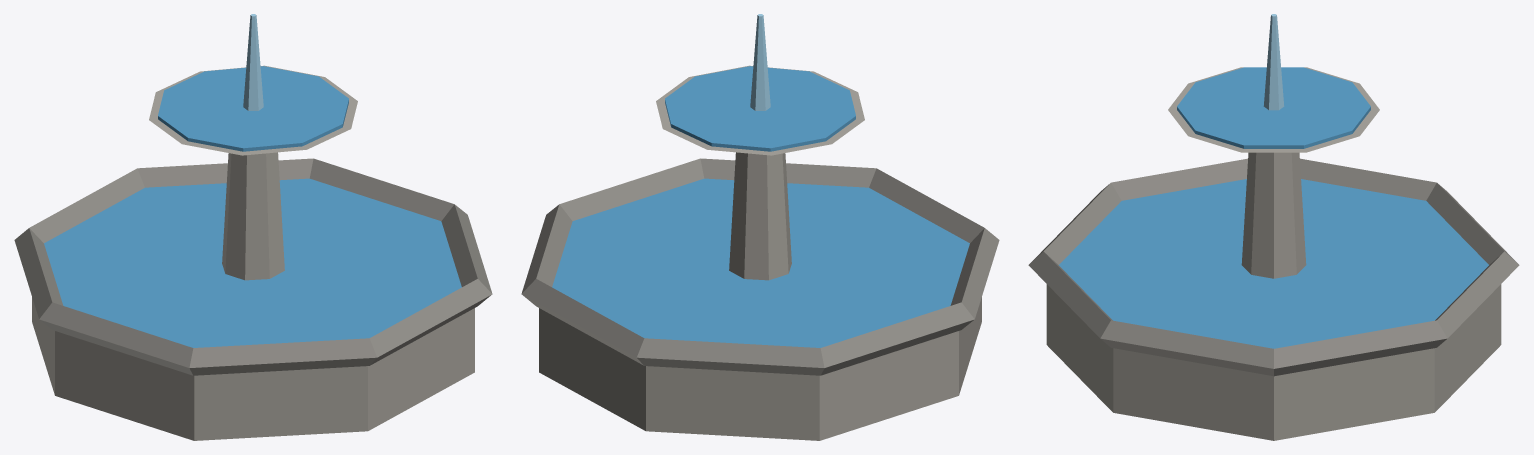
Rendered from fountain_small.glb.
The picture shows the model from 3 angles, left to right: view 1: azimuth 30°, elevation 25°; view 2: azimuth 150°, elevation 25°; view 3: azimuth 270°, elevation 25°; orthographic projection.
Visible parts, largest first — view 1: fountain_small; view 2: fountain_small; view 3: fountain_small.
Boxes of the visible parts, x1,y1,x2,y2 form: fountain_small: (14, 14, 492, 440); fountain_small: (521, 14, 999, 440); fountain_small: (1028, 14, 1519, 440).
Bounding box in the file's own units: 3.24 × 2.4 × 3.24.
